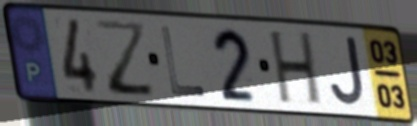2: (207, 23, 262, 106)
4: (59, 15, 101, 96)
H: (268, 29, 324, 109)
J: (328, 35, 368, 108)
L: (157, 24, 208, 100)
Z: (93, 18, 159, 100)
